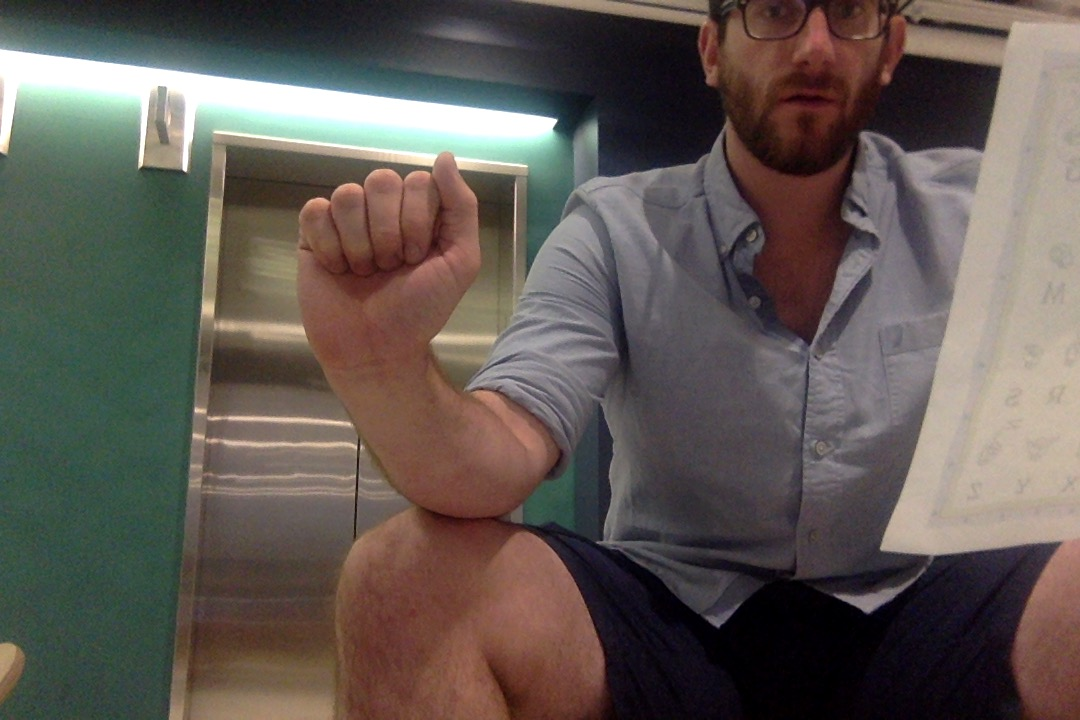a: (287, 143, 487, 370)
